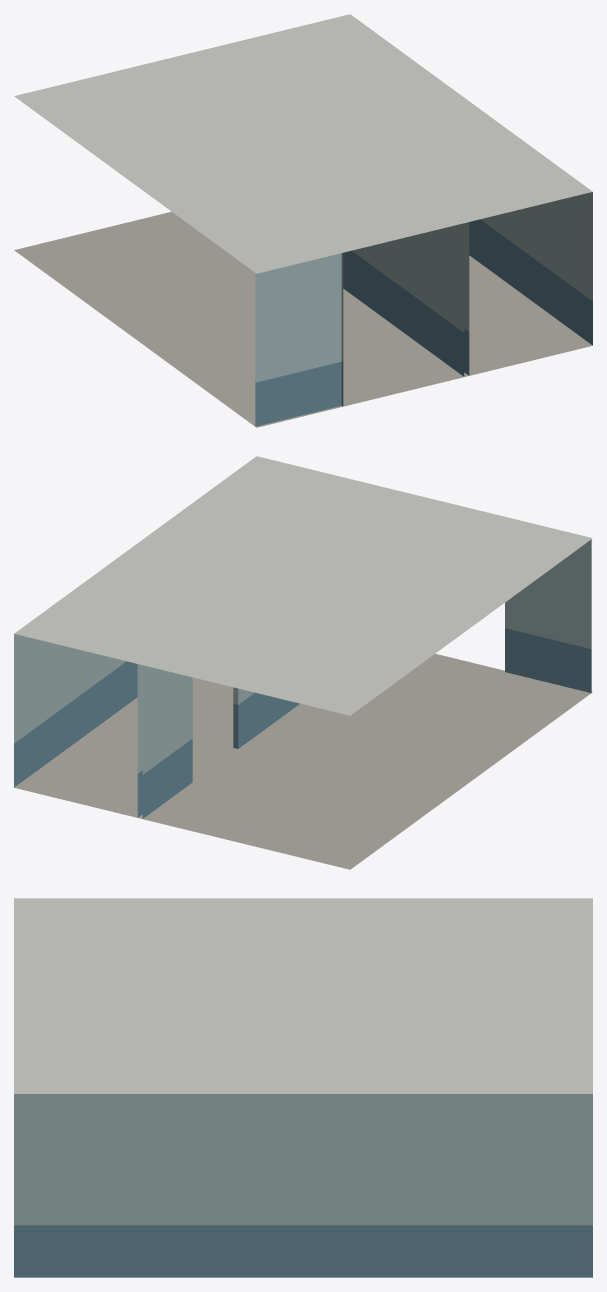
The model's file is chunk_4_2.glb.
3 renders of one model, top to bottom at view 1: azimuth 30°, elevation 25°; view 2: azimuth 150°, elevation 25°; view 3: azimuth 270°, elevation 25°, orthographic. The views are drawn at different scales.
Visible parts, largest first — view 1: chunk_4_2; view 2: chunk_4_2; view 3: chunk_4_2.
Part boxes in pixels (box(x1,y1,x2,y2)): chunk_4_2: box(14, 14, 592, 427); chunk_4_2: box(14, 456, 592, 869); chunk_4_2: box(14, 898, 592, 1277).
Bounding box in the file's own units: 9.6 × 4.2 × 12.
